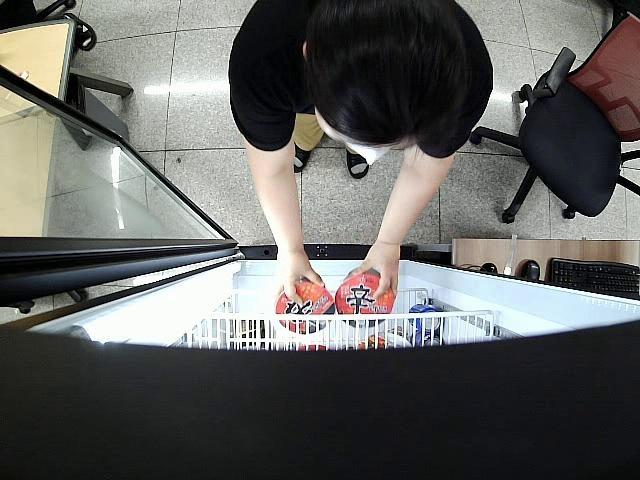01_ShinRamen_L: (334, 266, 396, 329), (274, 279, 334, 336)
